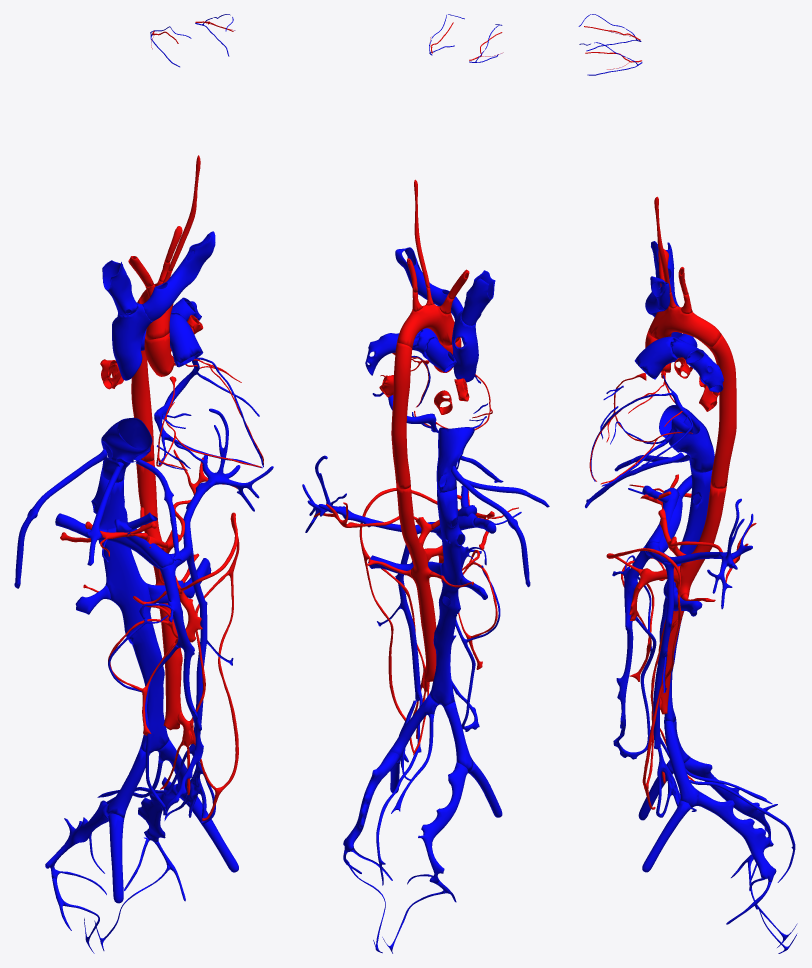
File: vh_m_blood_vasculature-40.glb
The picture shows the model from 3 angles, left to right: view 1: azimuth 30°, elevation 25°; view 2: azimuth 150°, elevation 25°; view 3: azimuth 270°, elevation 25°; orthographic projection. The views are drawn at different scales.
Parts seen in each view (by area): view 1: VH_M_inferior_vena_cava_b, VH_M_descending_aorta_b, VH_M_superior_mesenteric_vein, VH_M_splenic_vein, VH_M_inferior_vena_cava_a, VH_M_brachiocephalic_vein_L, VH_M_superior_vena_cava, VH_M_marginal_artery_of_Drummond, VH_M_descending_aorta_a, VH_M_brachiocephalic_vein_R, VH_M_inferior_mesenteric_vein, VH_M_right_hepatic_vein (+18 smaller); view 2: VH_M_inferior_vena_cava_b, VH_M_descending_aorta_b, VH_M_descending_aorta_a, VH_M_inferior_vena_cava_a, VH_M_internal_iliac_vein_R, VH_M_aortic_arch, VH_M_superior_vena_cava, VH_M_splenic_vein, VH_M_internal_iliac_vein_L, VH_M_brachiocephalic_vein_R, VH_M_brachiocephalic_vein_L, VH_M_marginal_artery_of_Drummond (+8 smaller); view 3: VH_M_descending_aorta_a, VH_M_descending_aorta_b, VH_M_inferior_vena_cava_b, VH_M_inferior_vena_cava_a, VH_M_internal_iliac_vein_L, VH_M_aortic_arch, VH_M_splenic_vein, VH_M_superior_mesenteric_vein, VH_M_pulmonary_artery_L, VH_M_inferior_mesenteric_vein, VH_M_internal_iliac_vein_R, VH_M_marginal_artery_of_Drummond (+12 smaller).
Part boxes in pixels (left/top/right/bottom): VH_M_inferior_vena_cava_b: left=91, top=472, right=169, bottom=753; VH_M_descending_aorta_b: left=136, top=460, right=182, bottom=730; VH_M_superior_mesenteric_vein: left=158, top=564, right=203, bottom=812; VH_M_splenic_vein: left=170, top=408, right=273, bottom=567; VH_M_inferior_vena_cava_a: left=101, top=417, right=152, bottom=482; VH_M_brachiocephalic_vein_L: left=142, top=231, right=215, bottom=321; VH_M_superior_vena_cava: left=112, top=302, right=152, bottom=380; VH_M_marginal_artery_of_Drummond: left=179, top=512, right=239, bottom=821; VH_M_descending_aorta_a: left=131, top=297, right=154, bottom=461; VH_M_brachiocephalic_vein_R: left=102, top=260, right=137, bottom=315; VH_M_inferior_mesenteric_vein: left=186, top=548, right=207, bottom=755; VH_M_right_hepatic_vein: left=14, top=448, right=107, bottom=588; VH_M_inferior_vena_cava_b: left=429, top=486, right=465, bottom=707; VH_M_descending_aorta_b: left=396, top=485, right=436, bottom=682; VH_M_descending_aorta_a: left=391, top=343, right=412, bottom=489; VH_M_inferior_vena_cava_a: left=436, top=427, right=474, bottom=492; VH_M_internal_iliac_vein_R: left=418, top=762, right=468, bottom=883; VH_M_aortic_arch: left=397, top=304, right=459, bottom=348; VH_M_superior_vena_cava: left=452, top=310, right=478, bottom=382; VH_M_splenic_vein: left=302, top=455, right=440, bottom=534; VH_M_internal_iliac_vein_L: left=343, top=752, right=399, bottom=853; VH_M_brachiocephalic_vein_R: left=461, top=270, right=495, bottom=325; VH_M_brachiocephalic_vein_L: left=395, top=247, right=463, bottom=319; VH_M_marginal_artery_of_Drummond: left=359, top=487, right=437, bottom=753; VH_M_descending_aorta_a: left=709, top=334, right=736, bottom=488; VH_M_descending_aorta_b: left=657, top=485, right=726, bottom=714; VH_M_inferior_vena_cava_b: left=659, top=468, right=712, bottom=722; VH_M_inferior_vena_cava_a: left=659, top=405, right=714, bottom=472; VH_M_internal_iliac_vein_L: left=696, top=791, right=776, bottom=881; VH_M_aortic_arch: left=647, top=306, right=721, bottom=348; VH_M_splenic_vein: left=645, top=498, right=753, bottom=609; VH_M_superior_mesenteric_vein: left=613, top=545, right=651, bottom=753; VH_M_pulmonary_artery_L: left=670, top=338, right=723, bottom=392; VH_M_inferior_mesenteric_vein: left=653, top=561, right=673, bottom=749; VH_M_internal_iliac_vein_R: left=684, top=757, right=777, bottom=847; VH_M_marginal_artery_of_Drummond: left=606, top=548, right=681, bottom=809.
Size of the model in its own units: 0.2362 by 0.8718 by 0.1873.
